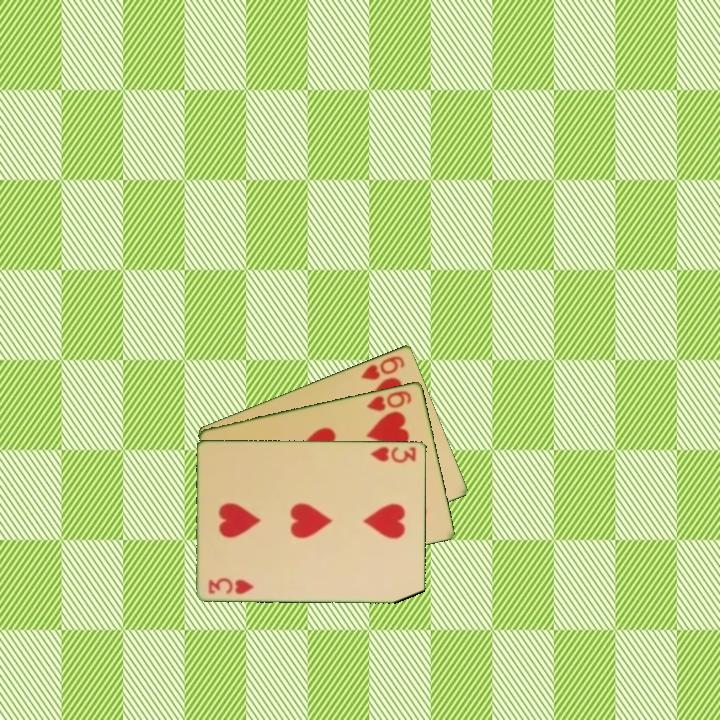3h: (367, 443, 419, 466), (205, 575, 257, 597)
6h: (357, 352, 408, 383), (363, 387, 415, 414)
